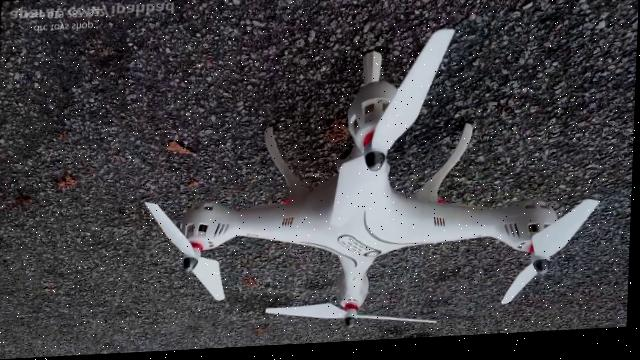drone: (138, 19, 611, 342)
